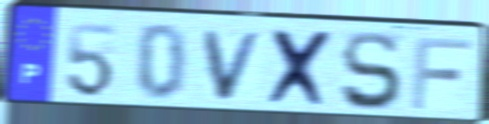0: (135, 22, 191, 104)
5: (65, 20, 120, 99)
F: (408, 35, 474, 112)
S: (339, 29, 404, 114)
V: (201, 28, 268, 103)
X: (265, 26, 339, 111)
